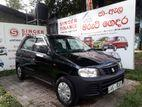car: (13, 31, 127, 107)
